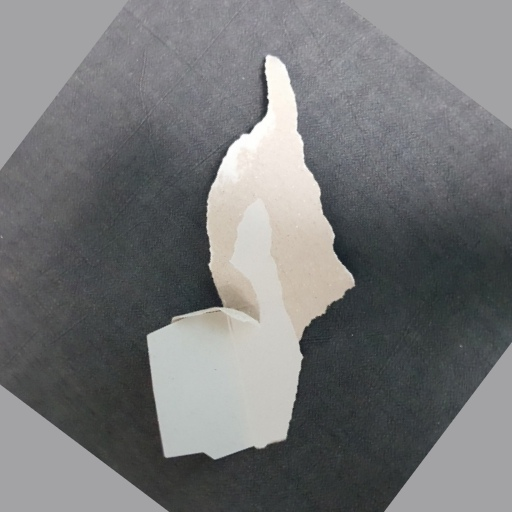Paper_3: (135, 47, 364, 477)
